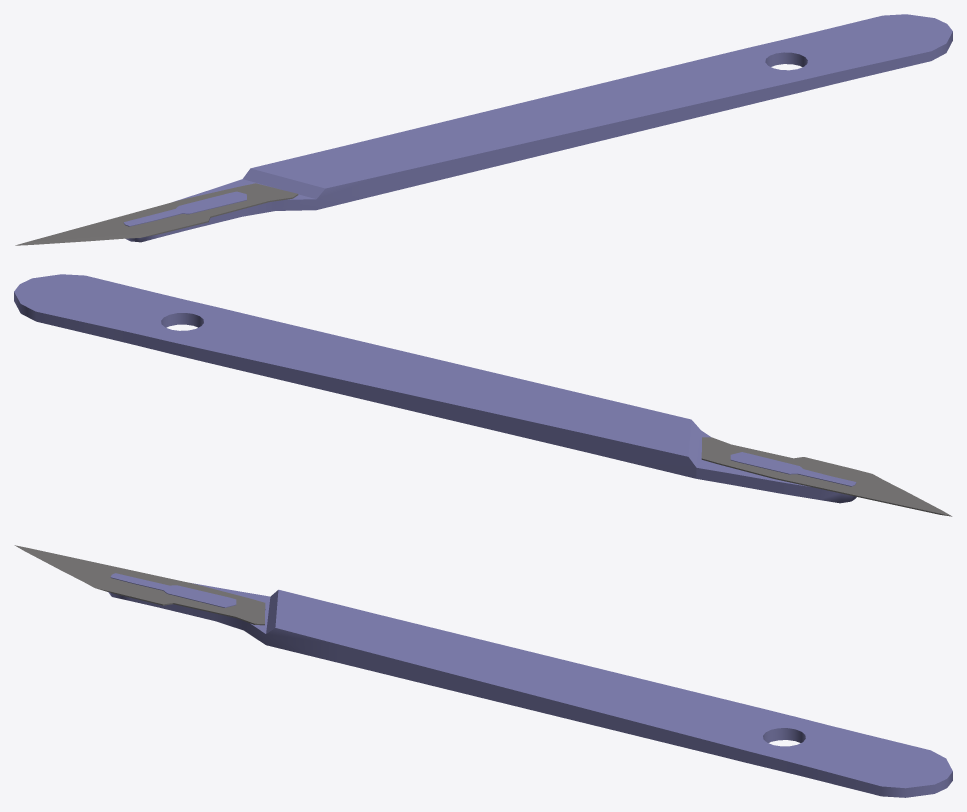
File: scalpel.fbx
3 views of the same model, one above another, from view 1: azimuth 30°, elevation 25°; view 2: azimuth 150°, elevation 25°; view 3: azimuth 330°, elevation 25° (orthographic).
Visible parts, largest first — view 1: scalpel; view 2: scalpel; view 3: scalpel.
Boxes of the visible parts, x1,y1,x2,y2 form: scalpel: (15,14,952,245); scalpel: (14,274,952,516); scalpel: (14,545,952,797).
Size of the model in its own units: 14.92 by 0.3128 by 1.36.
